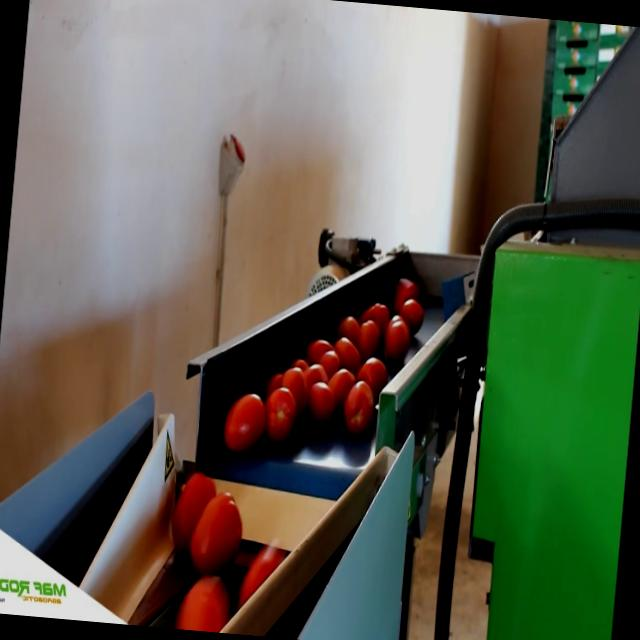Tomato: (188, 488, 246, 568), (170, 459, 220, 548), (235, 534, 290, 606), (175, 575, 232, 633), (221, 388, 267, 456), (341, 382, 375, 442), (264, 384, 297, 443), (382, 314, 412, 370), (302, 381, 336, 424), (358, 354, 393, 388), (324, 366, 354, 402), (334, 330, 361, 366), (284, 369, 310, 405), (357, 315, 380, 355), (360, 302, 392, 328), (396, 270, 420, 304), (398, 299, 424, 329), (338, 313, 361, 343), (305, 338, 332, 360), (302, 366, 328, 384), (323, 351, 345, 367)
